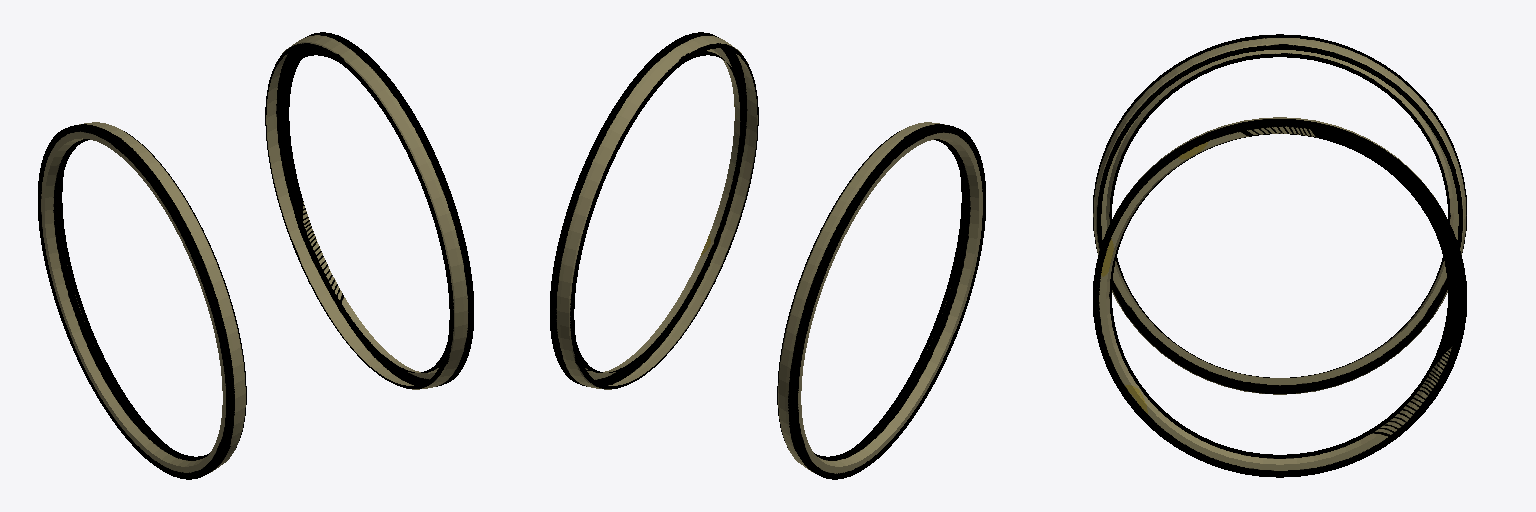
3 renders of one model, left to right at view 1: azimuth 30°, elevation 25°; view 2: azimuth 150°, elevation 25°; view 3: azimuth 270°, elevation 25°, orthographic.
Parts seen in each view (by area): view 1: drumsetV4_BigDrumRing_Cylinder.010; view 2: drumsetV4_BigDrumRing_Cylinder.010; view 3: drumsetV4_BigDrumRing_Cylinder.010.
Boxes of the visible parts, x1,y1,x2,y2 form: drumsetV4_BigDrumRing_Cylinder.010: [38, 32, 473, 479]; drumsetV4_BigDrumRing_Cylinder.010: [550, 32, 985, 479]; drumsetV4_BigDrumRing_Cylinder.010: [1093, 34, 1466, 477].
Size of the model in its own units: 1.82 by 2.25 by 2.06.
1 materials, 1 textured.